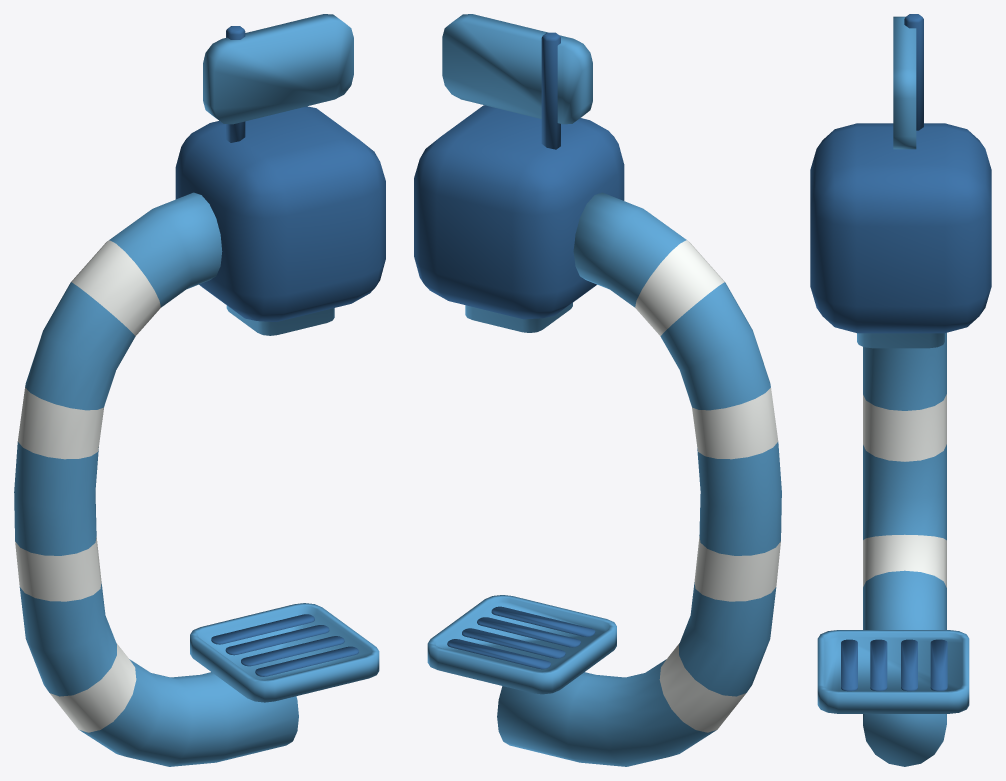
The model's file is Long Machine3.fbx.
3 views of the same model, side by side, from view 1: azimuth 30°, elevation 25°; view 2: azimuth 150°, elevation 25°; view 3: azimuth 270°, elevation 25° (orthographic).
Parts seen in each view (by area): view 1: Cylinder.055, Cube.201, Cube.207, Cube.208, Cube.212, Cube.211, Cube.209, Cube.210; view 2: Cylinder.055, Cube.201, Cube.207, Cube.208, Cylinder.056, Cube.209, Cube.210, Cube.211, Cube.212; view 3: Cube.201, Cylinder.055, Cube.208, Cube.207, Cylinder.056, Cube.209, Cube.211, Cube.212, Cube.210.
Part boxes in pixels (<box>): Cylinder.055: <box>14,192,298,766</box>; Cube.201: <box>175,106,385,335</box>; Cube.207: <box>203,14,353,124</box>; Cube.208: <box>190,603,379,702</box>; Cube.212: <box>255,646,358,676</box>; Cube.211: <box>211,614,314,644</box>; Cube.209: <box>241,636,344,666</box>; Cube.210: <box>225,625,329,655</box>; Cylinder.055: <box>497,192,781,766</box>; Cube.201: <box>414,105,624,332</box>; Cube.207: <box>442,14,592,124</box>; Cube.208: <box>427,595,616,694</box>; Cylinder.056: <box>541,32,560,149</box>; Cube.209: <box>477,617,580,647</box>; Cube.210: <box>462,628,565,658</box>; Cube.211: <box>447,639,550,669</box>; Cube.212: <box>491,606,595,636</box>; Cube.201: <box>810,123,991,348</box>; Cylinder.055: <box>863,332,946,766</box>; Cube.208: <box>817,630,969,713</box>; Cube.207: <box>893,16,916,149</box>; Cylinder.056: <box>904,14,923,130</box>; Cube.209: <box>870,639,887,691</box>; Cube.211: <box>930,639,947,691</box>; Cube.212: <box>841,639,857,691</box>; Cube.210: <box>901,639,917,691</box>.
Bounding box in the file's own units: 121 × 248 × 55.61.
